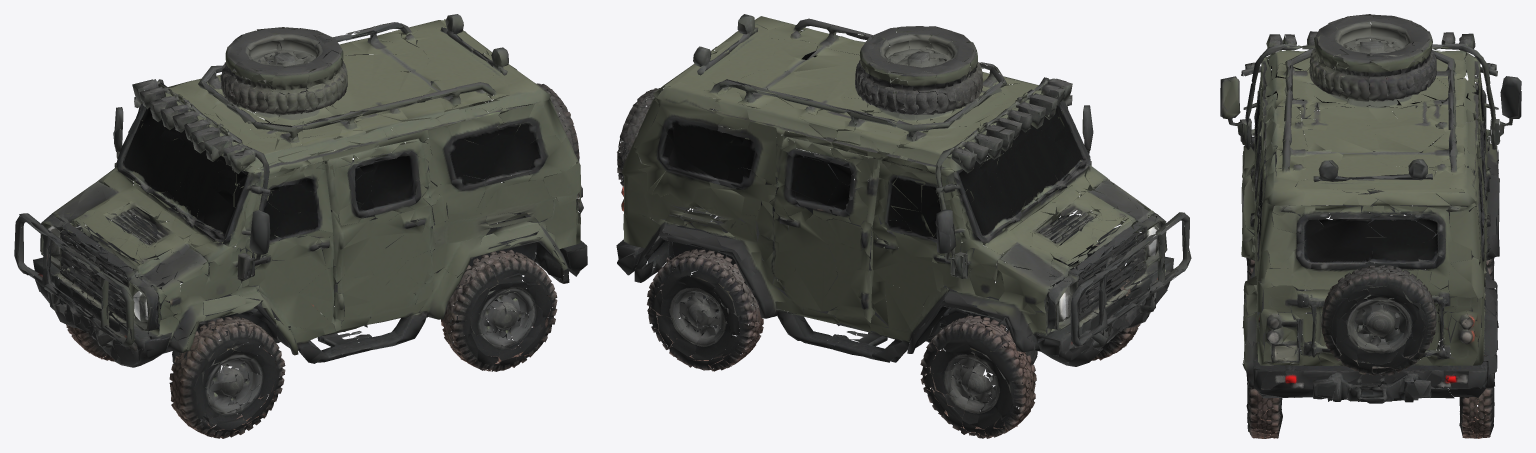
The model's file is zirhli_arac.glb.
The picture shows the model from 3 angles, left to right: view 1: azimuth 30°, elevation 25°; view 2: azimuth 150°, elevation 25°; view 3: azimuth 270°, elevation 25°; orthographic projection.
Parts seen in each view (by area): view 1: zirhli_arac; view 2: zirhli_arac; view 3: zirhli_arac.
Part boxes in pixels (<box>): zirhli_arac: <box>14,14,587,438</box>; zirhli_arac: <box>616,14,1191,438</box>; zirhli_arac: <box>1220,14,1521,438</box>.
Bounding box in the file's own units: 6.6 × 4.1 × 3.51.
1 material, 1 textured.
